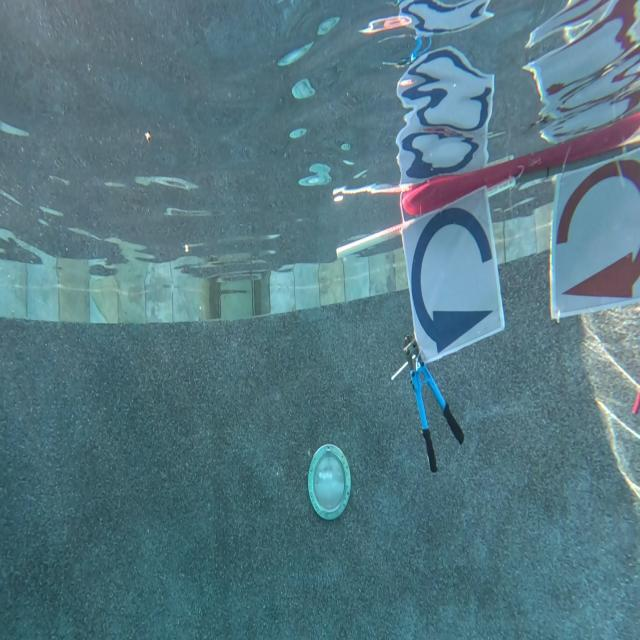blue_side: (405, 200, 498, 353)
red_side: (558, 157, 640, 297)
